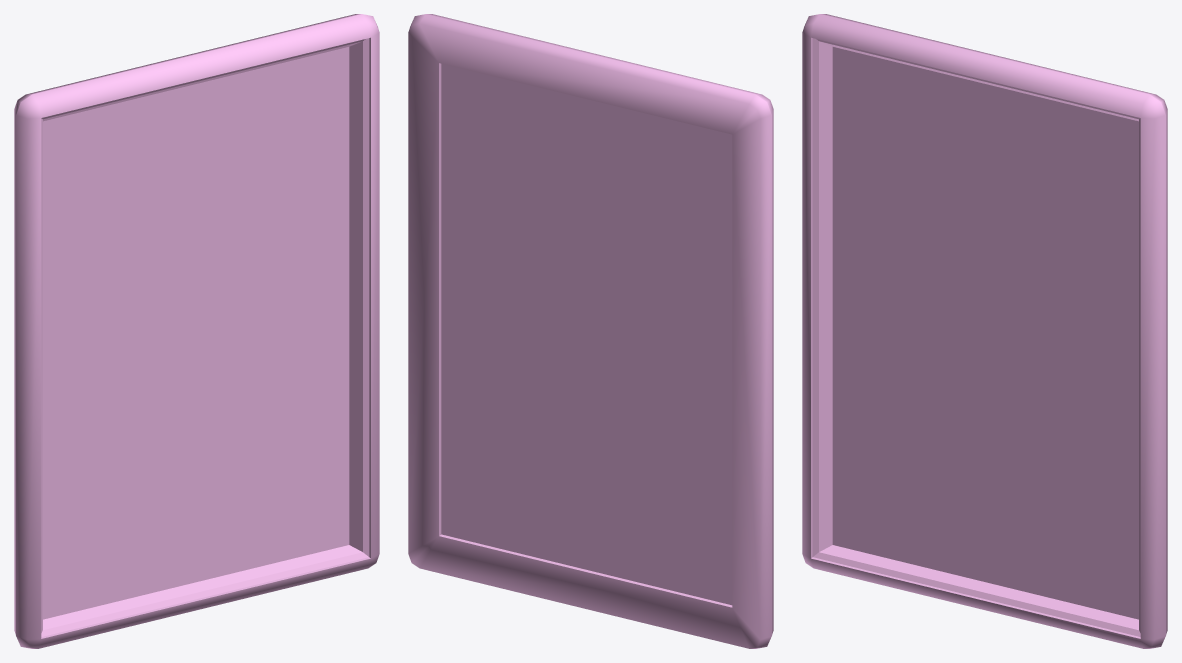
File: xiangkuang.glb
3 renders of one model, left to right at view 1: azimuth 30°, elevation 25°; view 2: azimuth 150°, elevation 25°; view 3: azimuth 330°, elevation 25°, orthographic.
Visible parts, largest first — view 1: xiangkuang; view 2: xiangkuang; view 3: xiangkuang.
Boxes of the visible parts, <box> form: xiangkuang: <box>14,14,379,648</box>; xiangkuang: <box>408,14,773,648</box>; xiangkuang: <box>802,14,1167,648</box>.
Bounding box in the file's own units: 10.82 × 15.85 × 0.8226.
